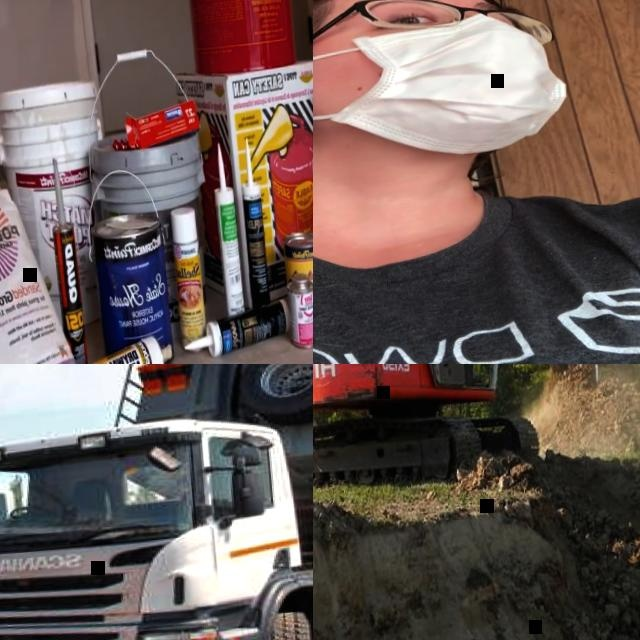Mask: (313, 1, 576, 168)
NO-Hardhat: (313, 0, 498, 51)
NO-Safety Vest: (313, 180, 640, 364)
Person: (313, 0, 640, 364), (441, 364, 481, 389)
machinery: (0, 364, 313, 640), (313, 364, 611, 495)
